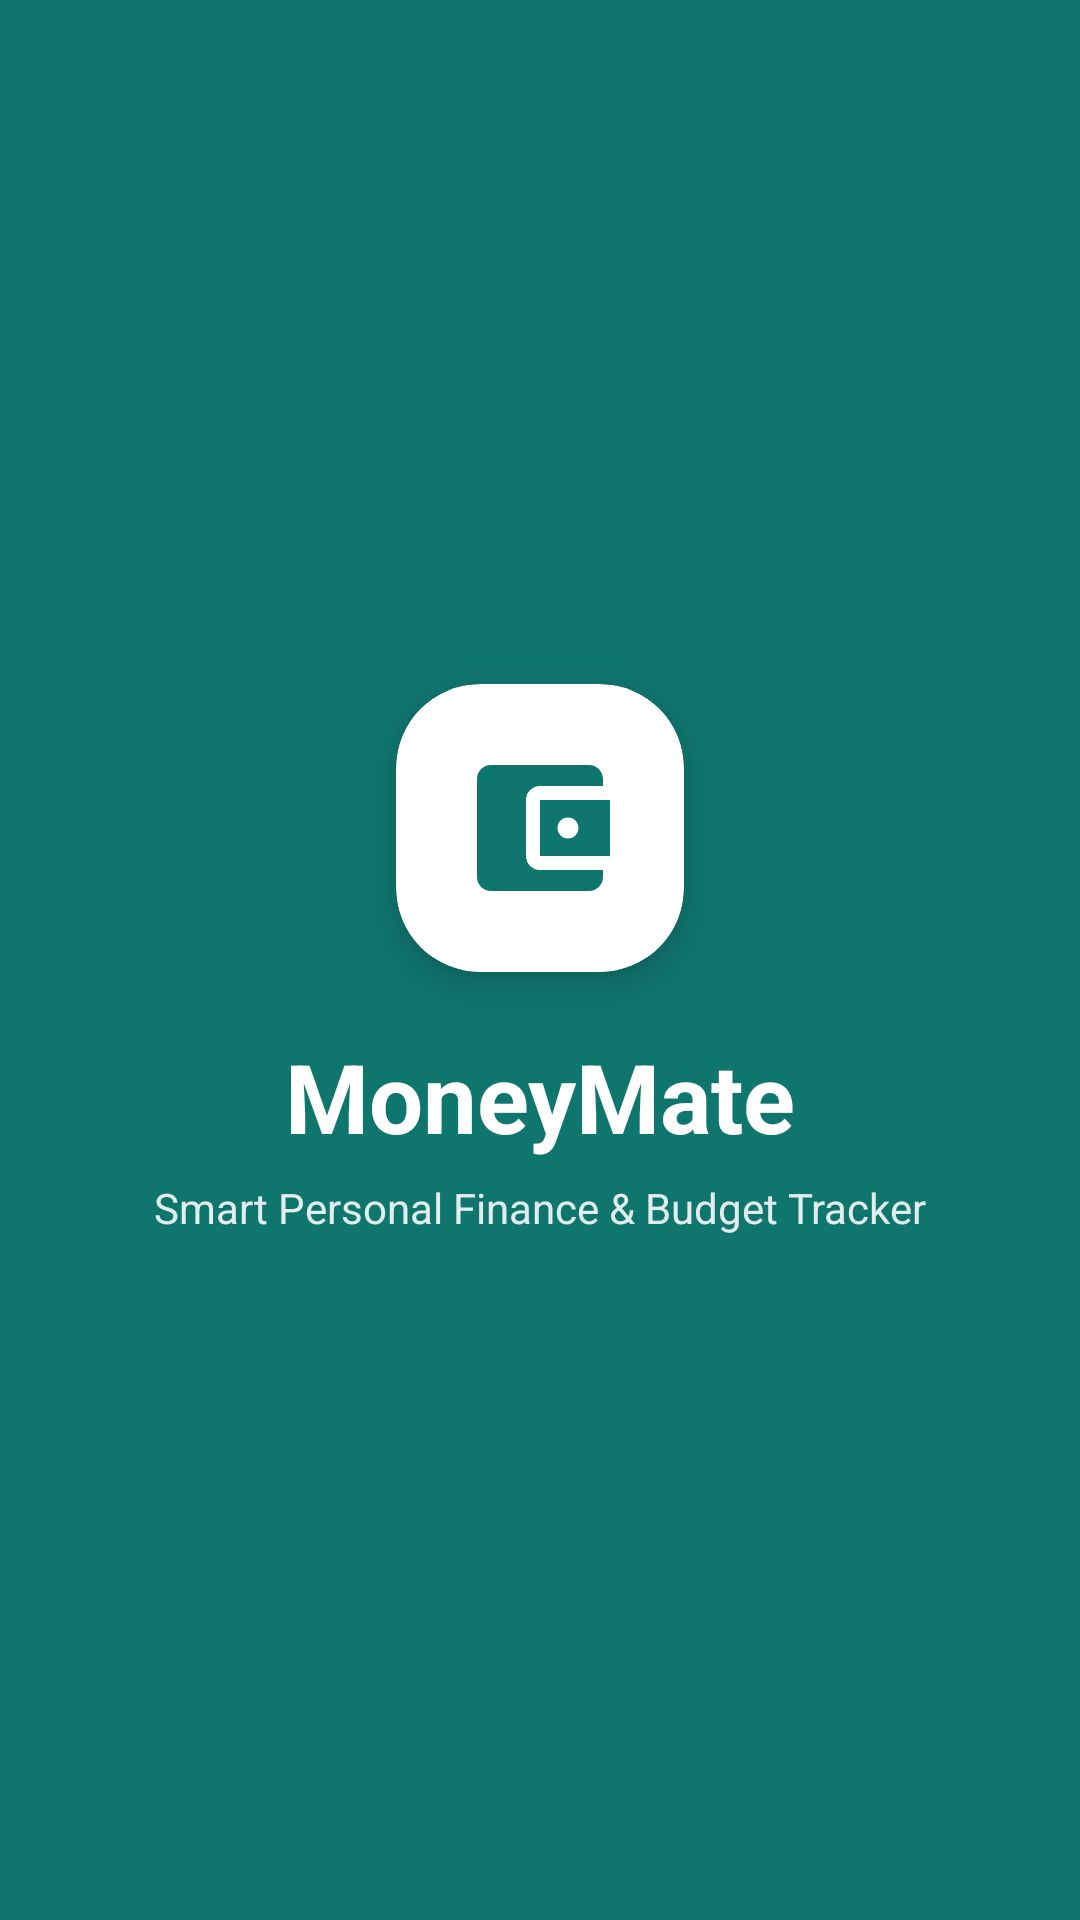

Icon click points for this 1080x1920 phone screenshot, format (x=x, y=y):
wallet: (x=543, y=828)
